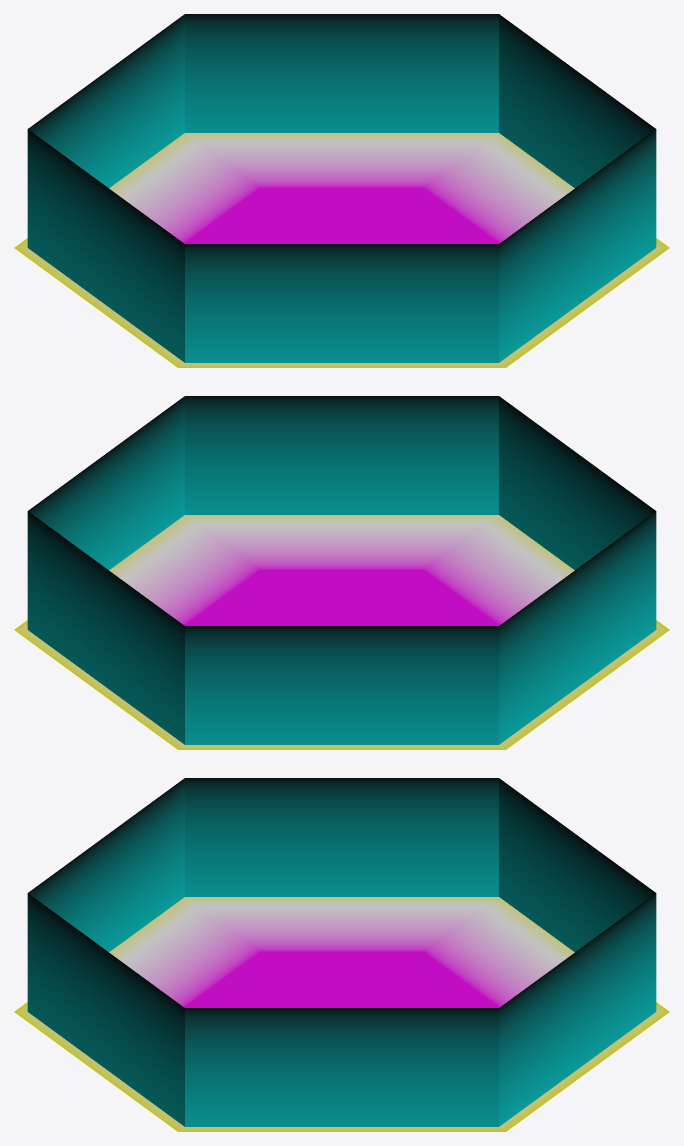
Rendered from HexSelector.fbx.
The picture shows the model from 3 angles, top to bottom: view 1: azimuth 30°, elevation 25°; view 2: azimuth 150°, elevation 25°; view 3: azimuth 270°, elevation 25°; orthographic projection.
Parts seen in each view (by area): view 1: HexSelector; view 2: HexSelector; view 3: HexSelector.
Boxes of the visible parts, x1,y1,x2,y2 form: HexSelector: [14, 14, 669, 367]; HexSelector: [14, 396, 669, 749]; HexSelector: [14, 778, 669, 1131].
Size of the model in its own units: 1732 by 400 by 2000.
